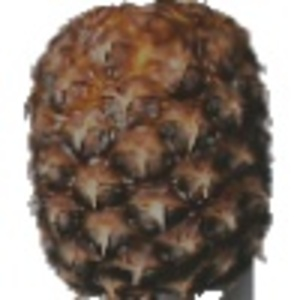abacaxi: (21, 2, 274, 297)
